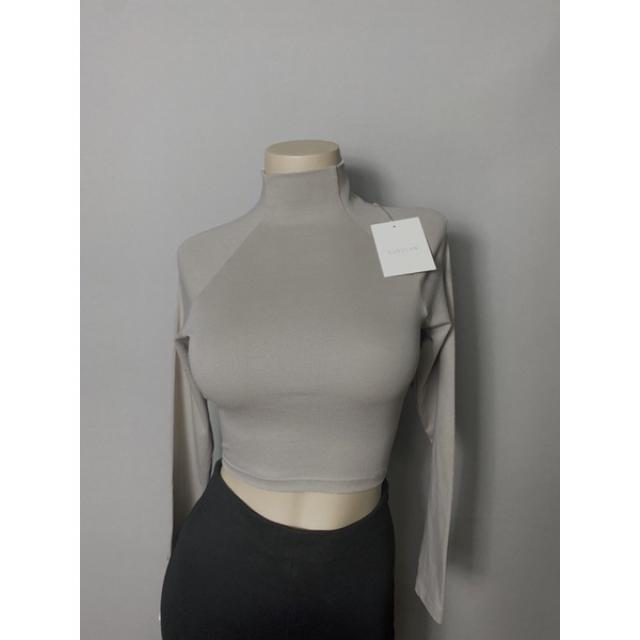Shirt: (174, 170, 464, 528)
